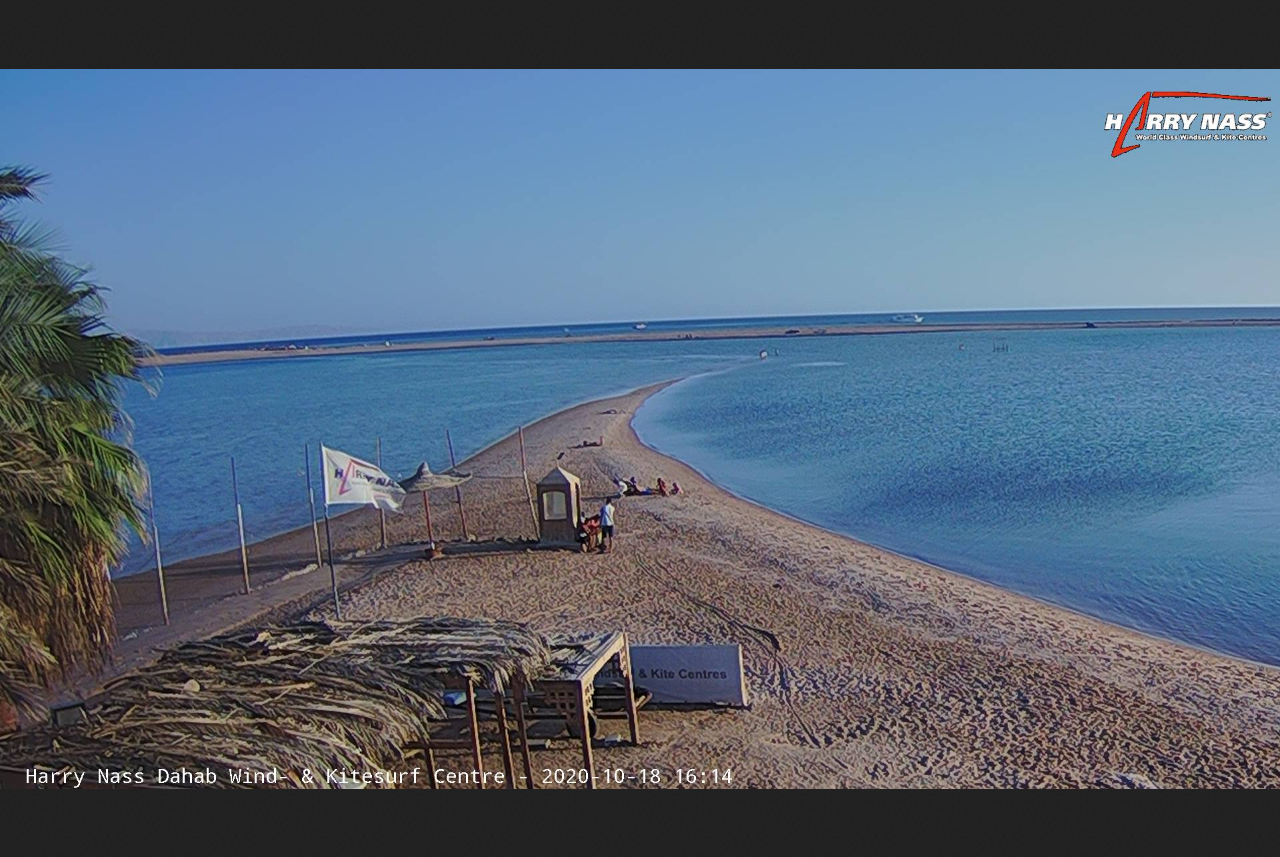yes: (316, 445, 407, 516)
